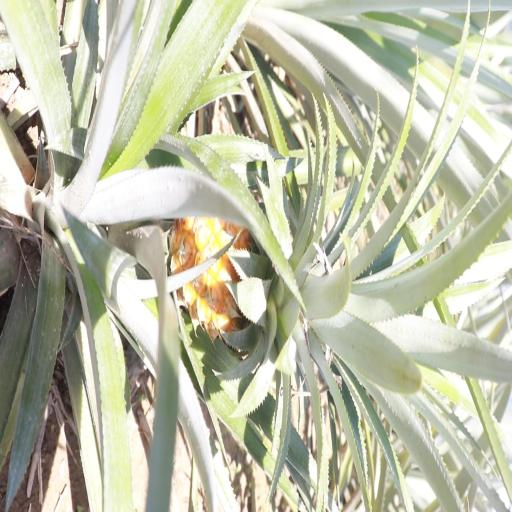Pineapple - v8 v1: (176, 203, 422, 389)
